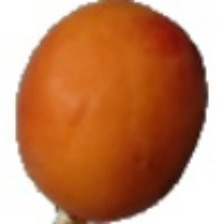apricot: (8, 40, 174, 179)
